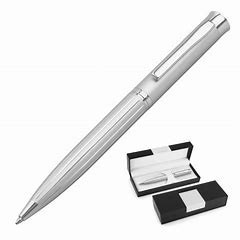pen: (17, 11, 214, 229), (139, 164, 192, 186)
